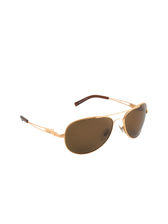glasses: (15, 94, 149, 155)
